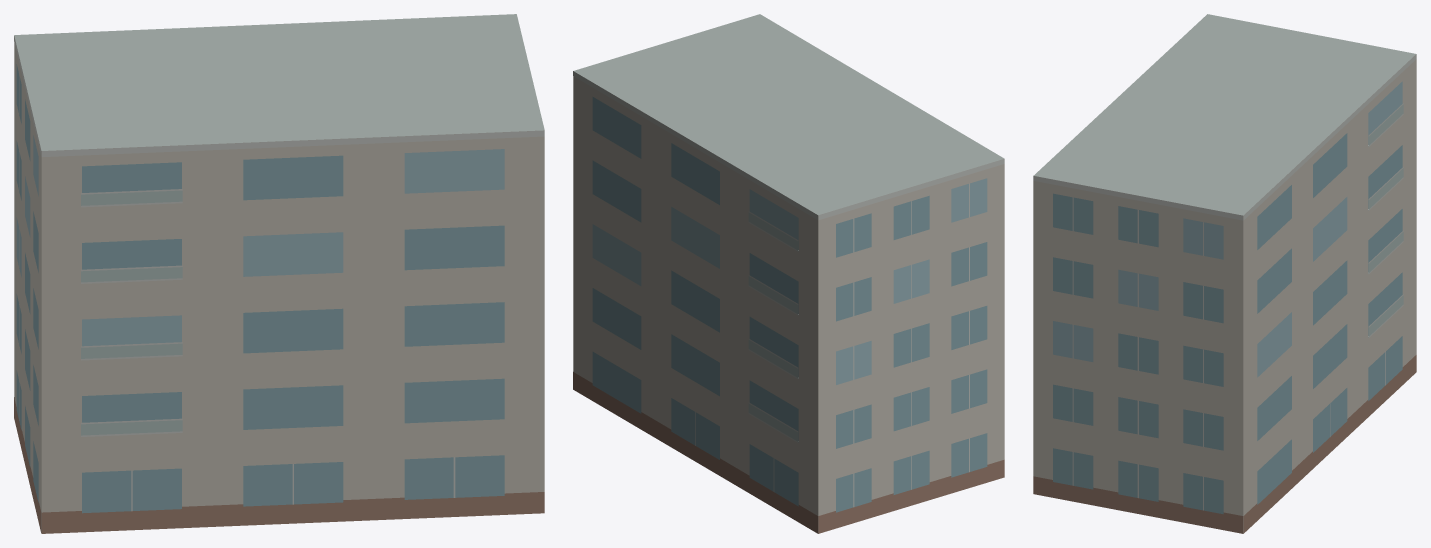
File: survey-upis-32984023.glb
3 renders of one model, left to right at view 1: azimuth 30°, elevation 25°; view 2: azimuth 150°, elevation 25°; view 3: azimuth 270°, elevation 25°, orthographic. The views are drawn at different scales.
Visible parts, largest first — view 1: survey-upis-32984023.tmp; view 2: survey-upis-32984023.tmp; view 3: survey-upis-32984023.tmp.
Boxes of the visible parts, x1,y1,x2,y2 form: survey-upis-32984023.tmp: (14, 14, 544, 533); survey-upis-32984023.tmp: (573, 14, 1004, 533); survey-upis-32984023.tmp: (1033, 14, 1416, 533).
Bounding box in the file's own units: 20.72 × 15.25 × 16.64.
